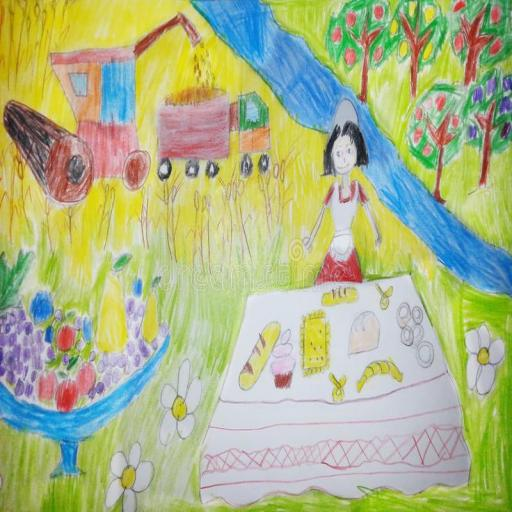person: (303, 118, 381, 290)
